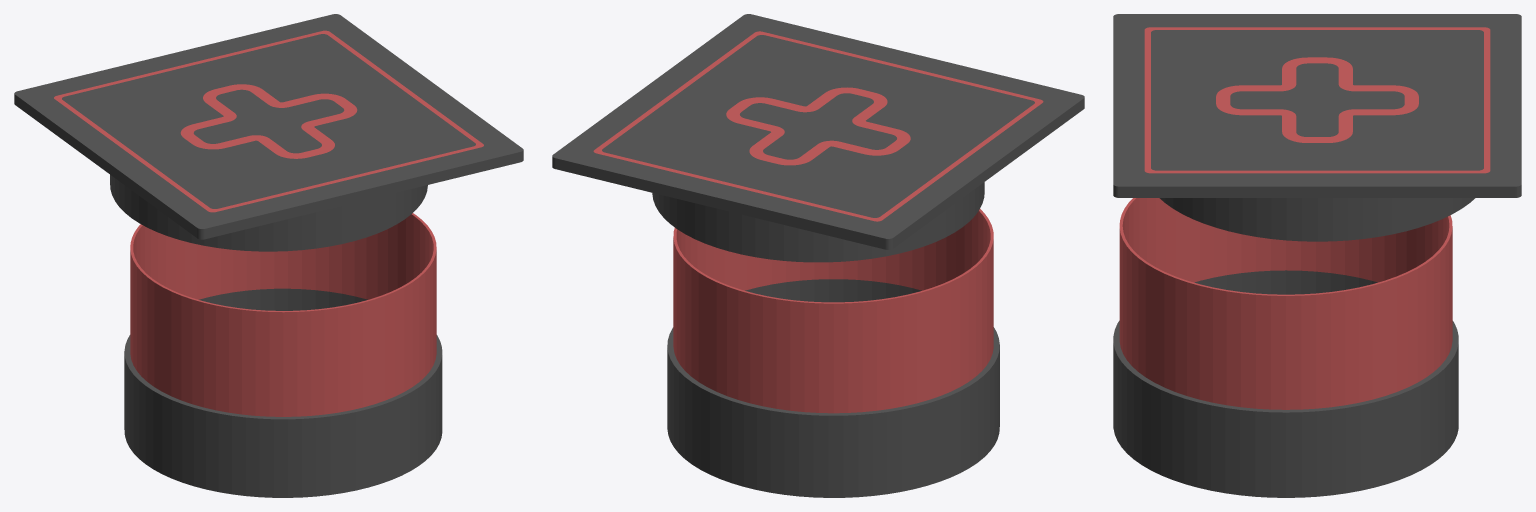
File: bomboniera-medicina-facolta-aperto.glb
3 renders of one model, left to right at view 1: azimuth 30°, elevation 25°; view 2: azimuth 150°, elevation 25°; view 3: azimuth 270°, elevation 25°, orthographic. The views are drawn at different scales.
Parts seen in each view (by area): view 1: struttura_coperchio, fascia, struttura_base, simbolo_intarsio, bordo; view 2: struttura_coperchio, fascia, struttura_base, simbolo_intarsio, bordo; view 3: struttura_coperchio, fascia, struttura_base, simbolo_intarsio, bordo.
Part boxes in pixels (x1,y1,x2,y2): struttura_coperchio: (14, 14, 523, 251); fascia: (130, 213, 436, 416); struttura_base: (124, 288, 442, 497); simbolo_intarsio: (180, 84, 357, 158); bordo: (54, 30, 483, 212); struttura_coperchio: (552, 14, 1084, 262); fascia: (673, 209, 993, 413); struttura_base: (667, 279, 999, 497); simbolo_intarsio: (726, 87, 910, 165); bordo: (593, 31, 1043, 221); struttura_coperchio: (1113, 14, 1521, 241); fascia: (1119, 198, 1452, 409); struttura_base: (1113, 270, 1458, 497); simbolo_intarsio: (1216, 57, 1418, 142); bordo: (1144, 27, 1490, 173).
Bounding box in the file's own units: 0.065 × 0.057 × 0.065.
